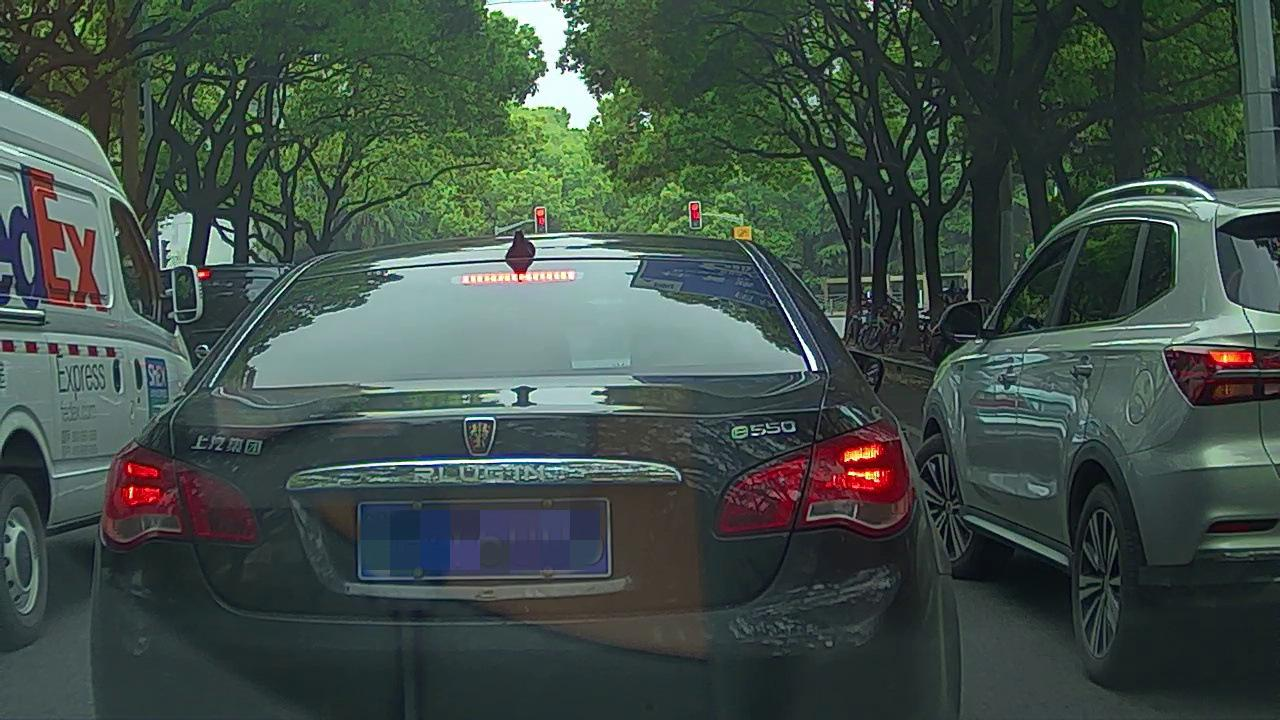traffic_light: (689, 201, 700, 229), (535, 209, 546, 233)
